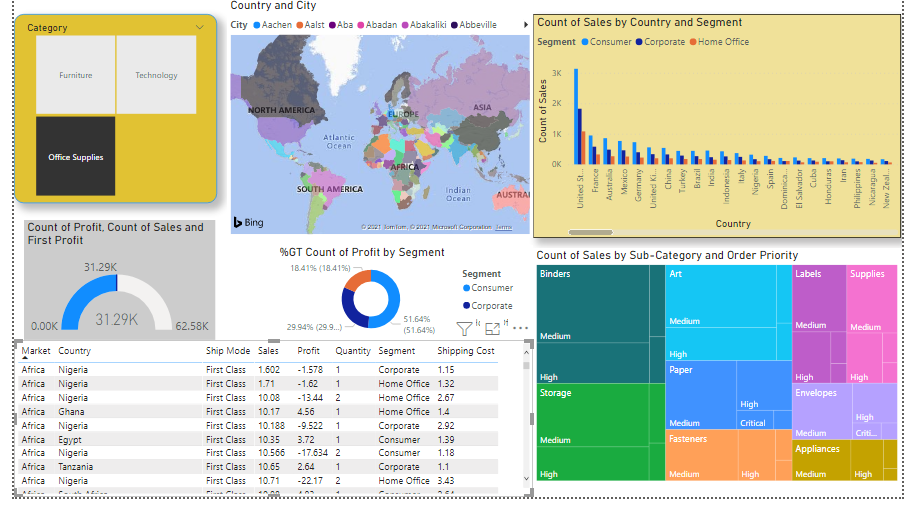

This screenshot's page, from the dashboard's own definition file:
{"tool":"powerbi","page":{"name":"Page 2","canvas":[1280,720],"ordinal":1},"visuals":[{"type":"clusteredColumnChart","fields":{"Category":["Orders.Country"],"Series":["Orders.Segment"],"Y":["CountNonNull(Orders.Sales)"]},"box":[748.9,23.1,531,323.2],"z":0},{"type":"treemap","fields":{"Values":["CountNonNull(Orders.Sales)"],"Group":["Orders.Sub-Category"],"Details":["Orders.Order Priority"]},"box":[748.9,360.7,531,340.5],"z":1000},{"type":"donutChart","fields":{"Category":["Orders.Segment"],"Y":["CountNonNull(Orders.Profit)"]},"box":[378,356.4,370.8,137.1],"z":2000},{"type":"gauge","fields":{"Y":["CountNonNull(Orders.Profit)"],"TargetValue":["CountNonNull(Orders.Sales)"]},"box":[14.4,346.3,275.6,147.2],"z":3000},{"type":"tableEx","fields":{"Values":["Orders.Market","Orders.Country","Orders.Ship Mode","Orders.Sales","Orders.Profit","Orders.Quantity","Orders.Segment","Orders.Shipping Cost"]},"box":[0,493.5,748.9,226.5],"z":4000},{"type":"slicer","fields":{"Values":["Orders.Category"]},"box":[0,23.1,292.9,292.9],"z":5000},{"type":"filledMap","fields":{"Category":["Orders.Country"],"Series":["Orders.City"]},"box":[307.3,0,441.5,346.3],"z":6000}]}

Visuals, with their boxes in screenshot pixels (x1, y1, x2, y2), scaled from the page's 1280x720 canvas onto the 912x505 screenshot:
clusteredColumnChart - Orders.Country x Orders.Segment: box(534, 16, 911, 243)
treemap - CountNonNull(Orders.Sales) x Orders.Sub-Category: box(534, 253, 911, 492)
donutChart - Orders.Segment x CountNonNull(Orders.Profit): box(269, 250, 534, 346)
gauge - CountNonNull(Orders.Profit) x CountNonNull(Orders.Sales): box(10, 243, 207, 346)
tableEx - Orders.Market x Orders.Country: box(0, 346, 534, 504)
slicer - Orders.Category: box(0, 16, 209, 222)
filledMap - Orders.Country x Orders.City: box(219, 0, 534, 243)
